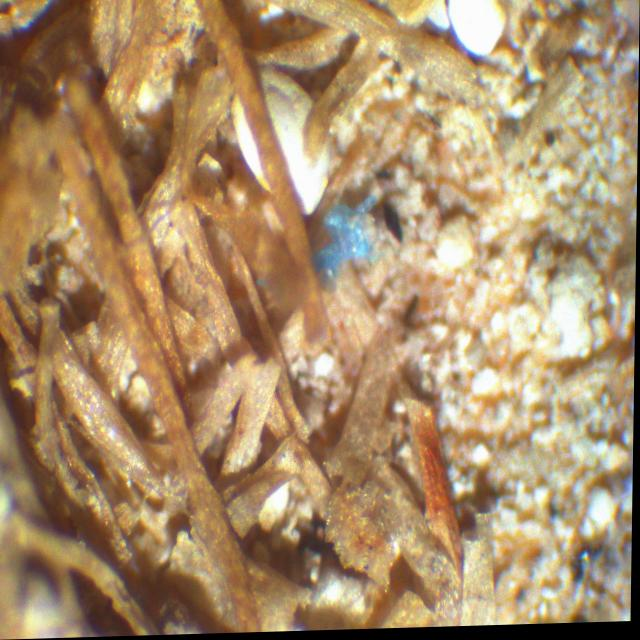microplastic: (314, 194, 380, 286)
